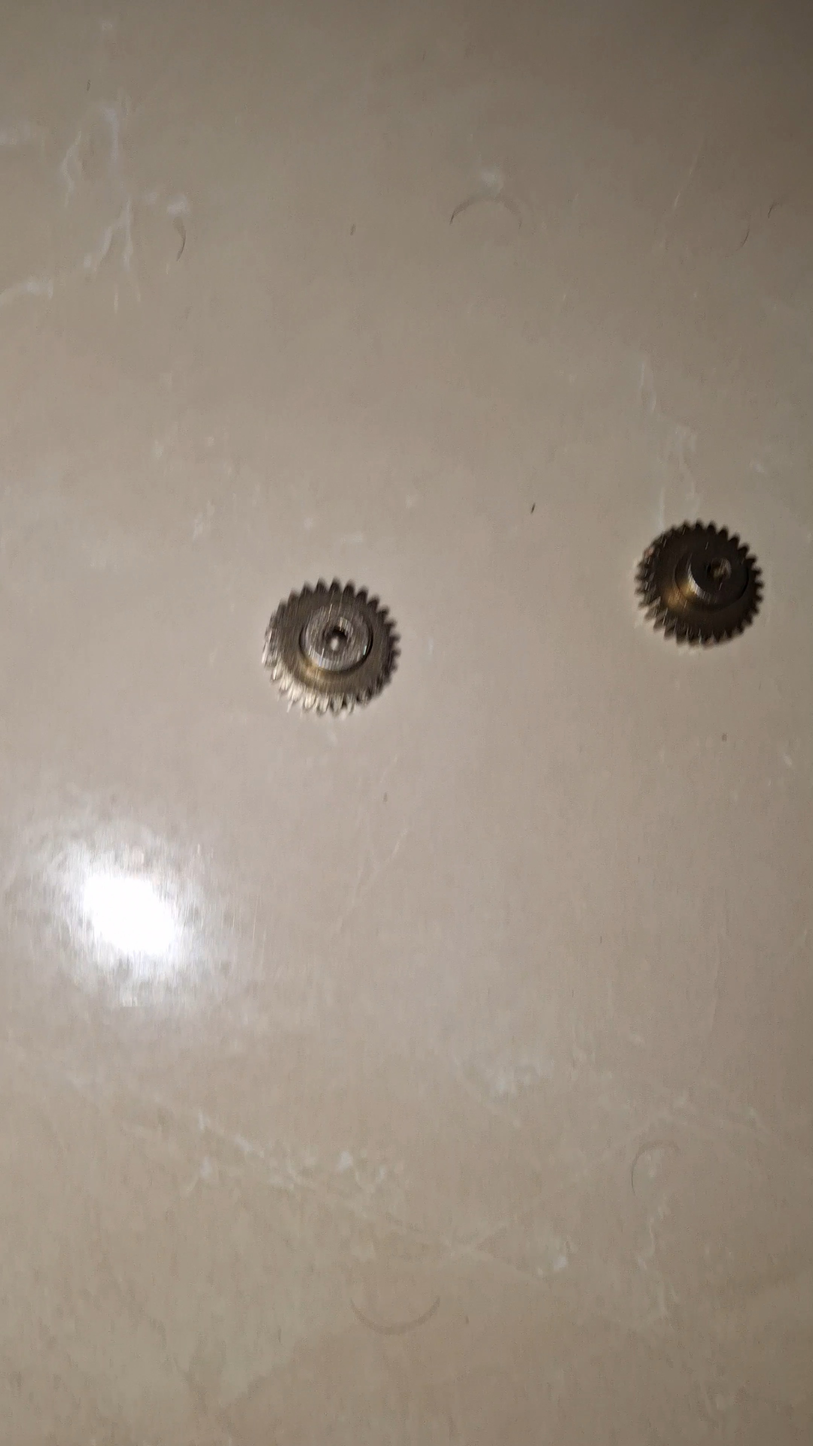spur gear: (263, 581, 397, 713), (637, 522, 761, 644)
